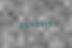eight: (37, 19, 41, 27), (17, 21, 21, 28)
four: (27, 20, 31, 28)
nine: (47, 19, 51, 26)
one: (42, 19, 46, 27)
six: (22, 20, 26, 28)
zero: (32, 20, 36, 27)
